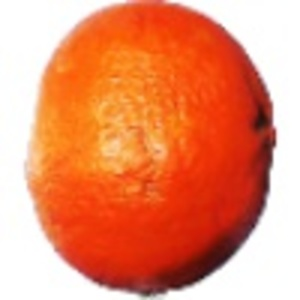tangerina: (23, 1, 278, 300)
